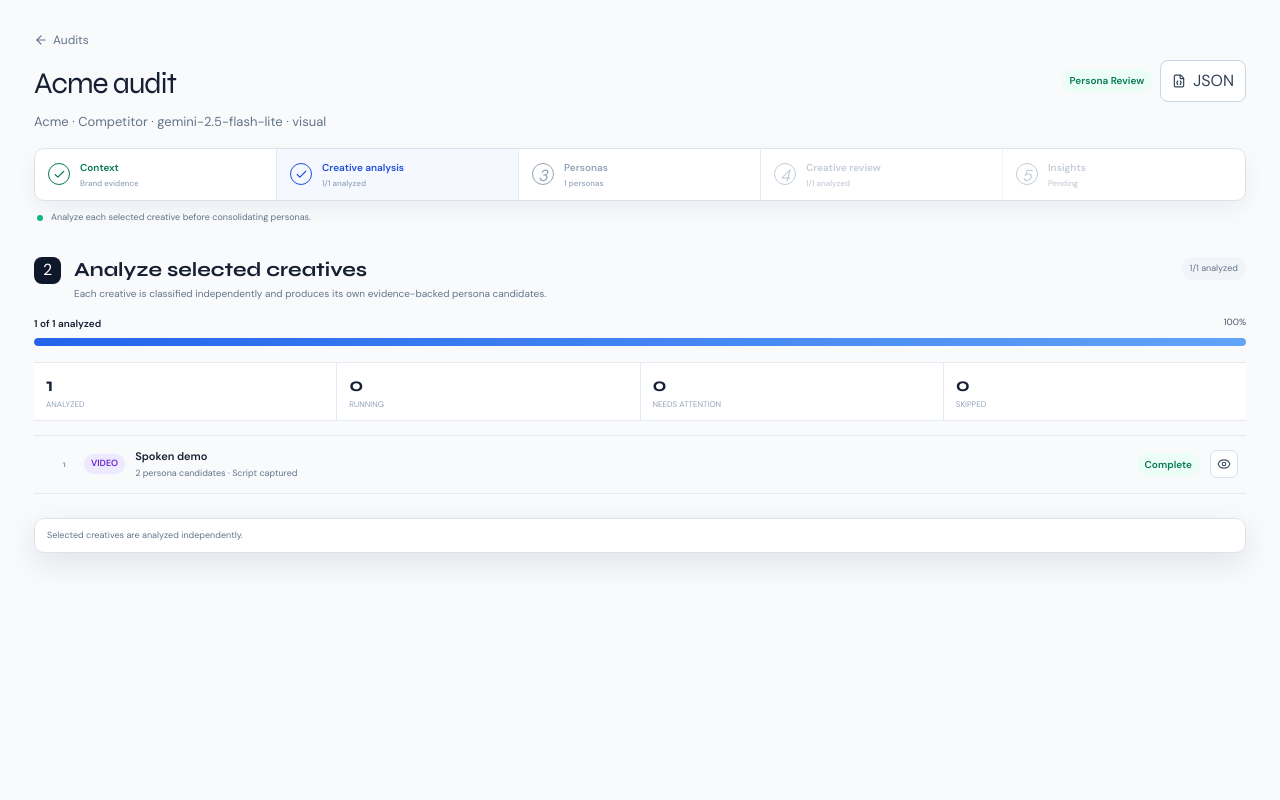
Ad Library audit workflow › shows the evidence-first analysis stage with creative candidates and the captured script
The image size is (1280, 800).
expect the heading "Analyze selected creatives" is shown: met, box [74, 256, 367, 282]
expect the text "100%" is shown: met, box [1224, 316, 1246, 330]
Click the button named "Preview creative evidence".
click(1224, 464)  # box [1210, 450, 1238, 478]
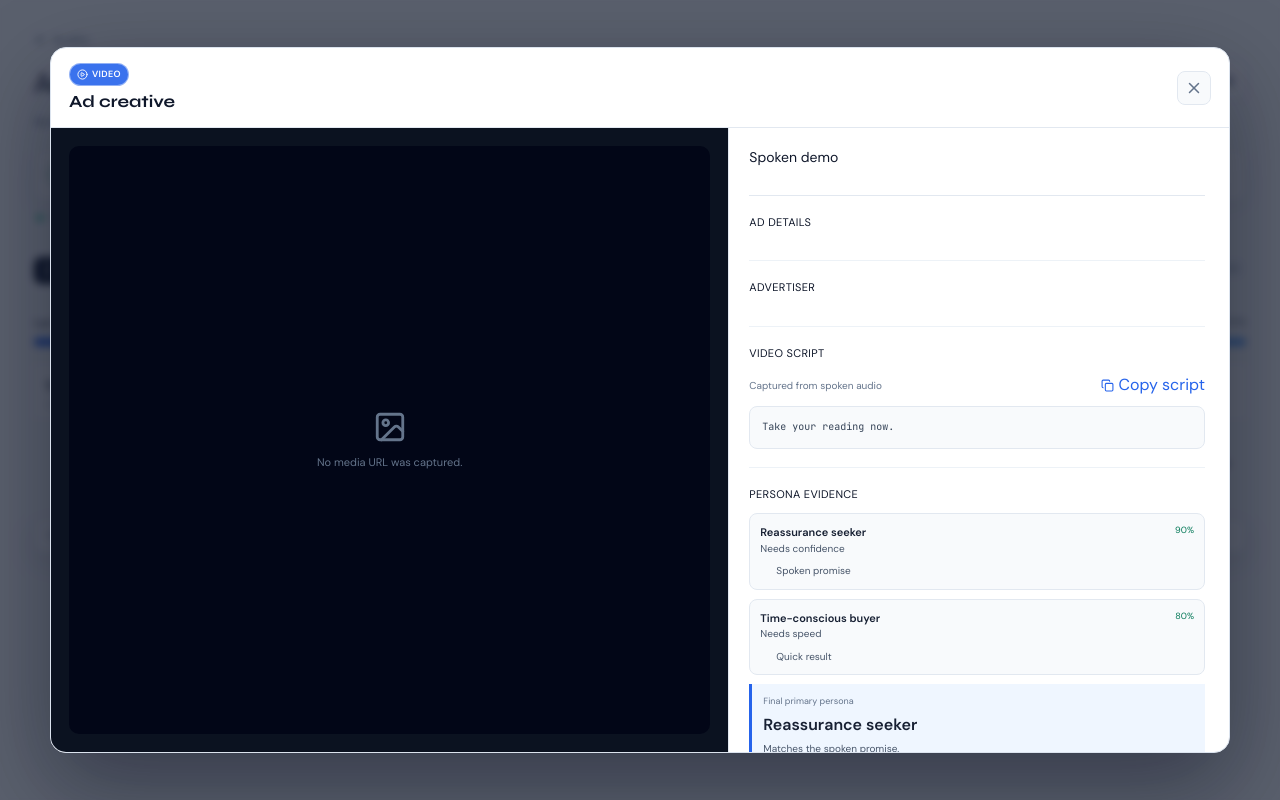
expect the heading "Video script" is shown: met, box [749, 346, 824, 360]
expect the text "Take your reading now." is shown: met, box [749, 406, 1205, 449]
expect the text "Matches the spoken promise." is shown: met, box [763, 742, 899, 752]
